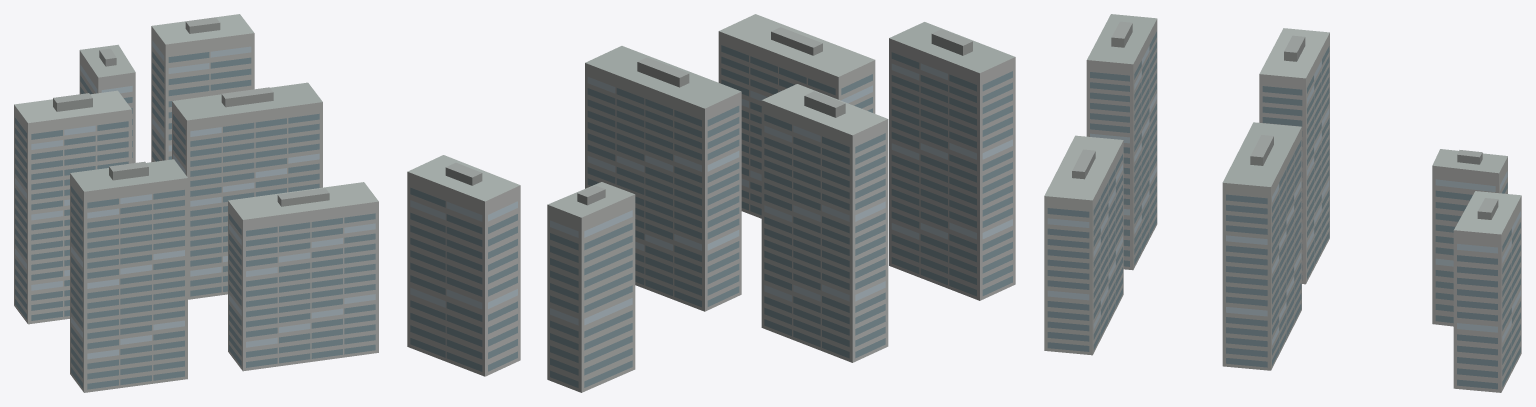
File: apt-a10024495.glb
3 renders of one model, left to right at view 1: azimuth 30°, elevation 25°; view 2: azimuth 150°, elevation 25°; view 3: azimuth 270°, elevation 25°, orthographic. The views are drawn at different scales.
Visible parts, largest first — view 1: apt-a10024495; view 2: apt-a10024495; view 3: apt-a10024495.
Part boxes in pixels (x1,y1,x2,y2): apt-a10024495: (14,14,378,392); apt-a10024495: (407,14,1015,392); apt-a10024495: (1044,14,1521,392).
Size of the model in its own units: 98.44 by 57 by 115.
